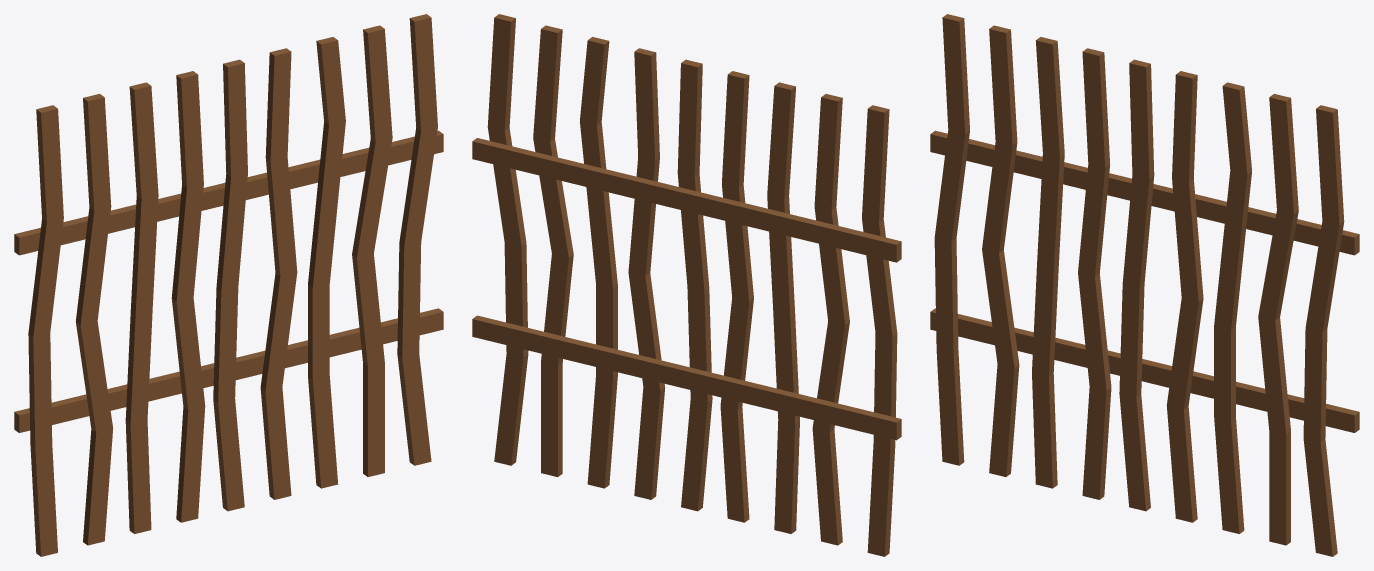
Rendered from Fence_11_Light_Brown.fbx.
3 views of the same model, side by side, from view 1: azimuth 30°, elevation 25°; view 2: azimuth 150°, elevation 25°; view 3: azimuth 330°, elevation 25° (orthographic).
Parts seen in each view (by area): view 1: Fence_11_Light_Brown; view 2: Fence_11_Light_Brown; view 3: Fence_11_Light_Brown.
Boxes of the visible parts, x1,y1,x2,y2 form: Fence_11_Light_Brown: (14,14,443,556); Fence_11_Light_Brown: (472,14,901,556); Fence_11_Light_Brown: (930,14,1359,556).
Size of the model in its own units: 100 by 100 by 4.
